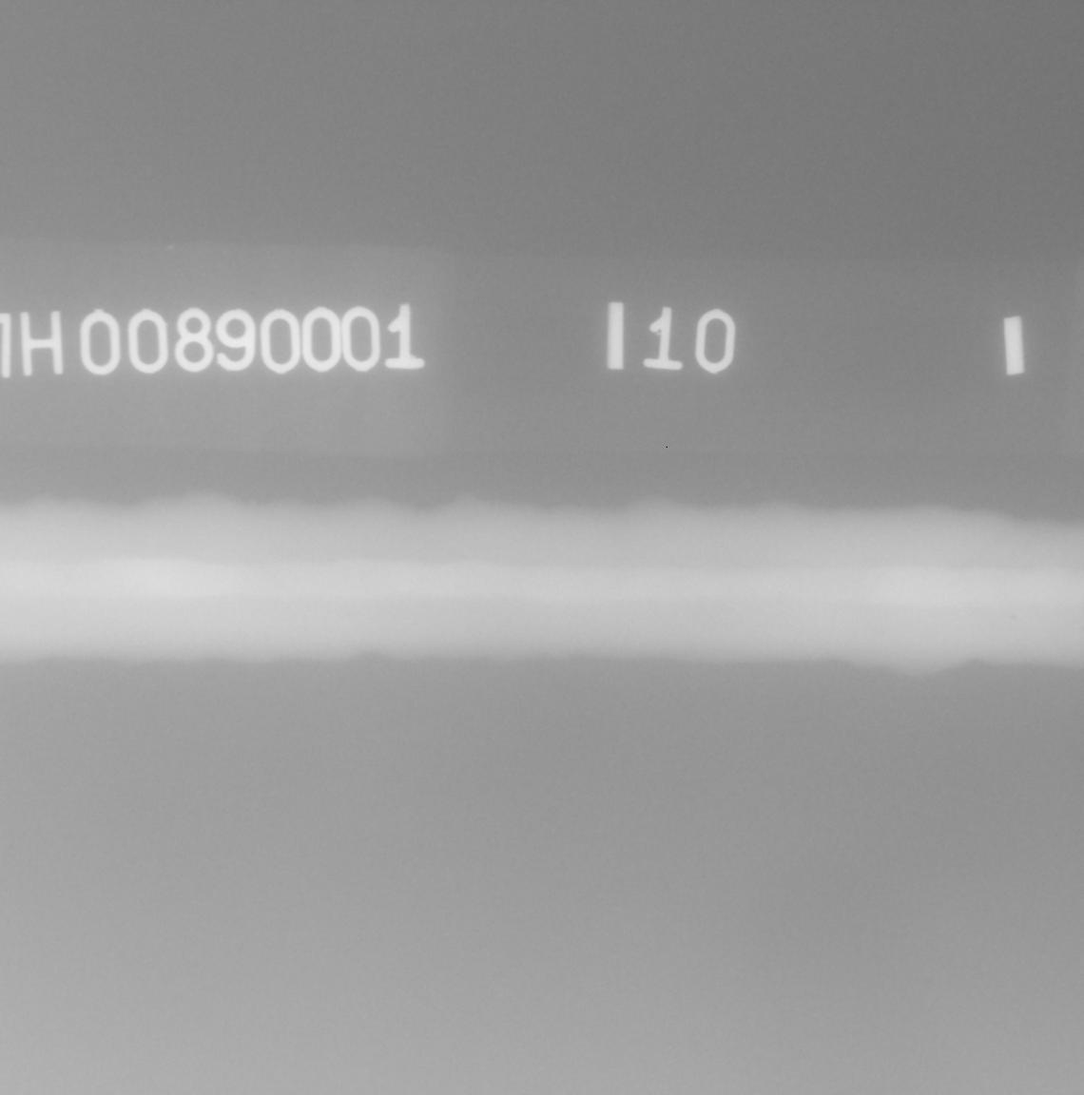Pore/Porosity: (1009, 616, 1016, 619)
